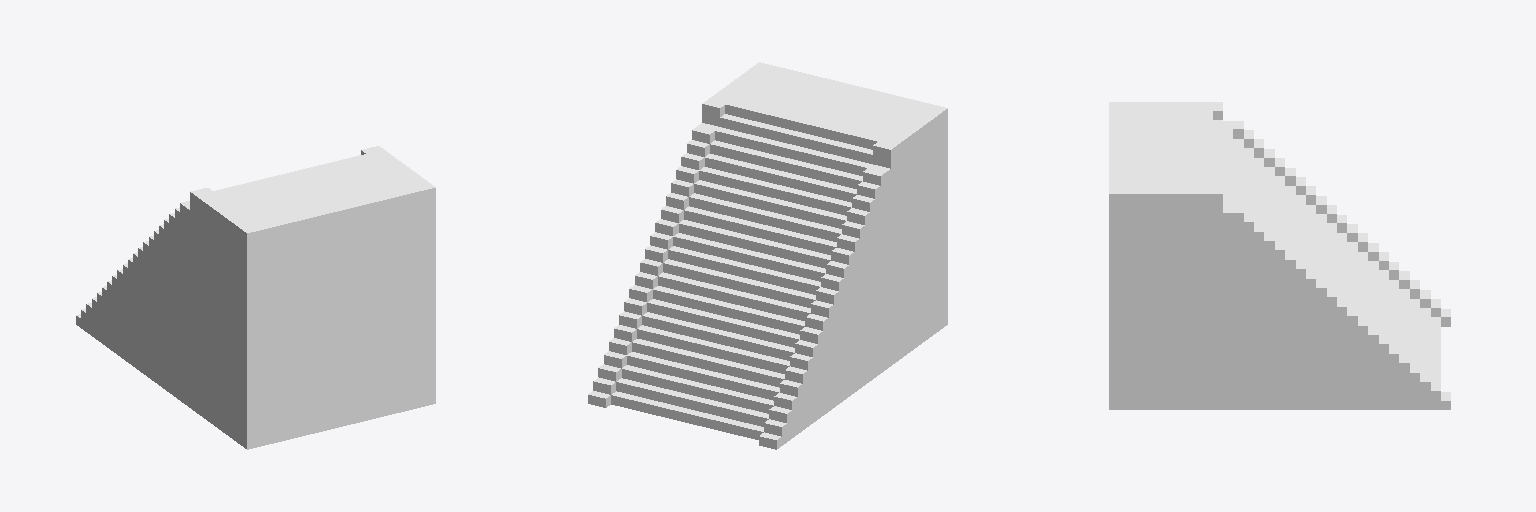
Rendered from stairs.obj.
3 renders of one model, left to right at view 1: azimuth 30°, elevation 25°; view 2: azimuth 150°, elevation 25°; view 3: azimuth 270°, elevation 25°, orthographic.
Bounding box in the file's own units: 21 × 23 × 33.